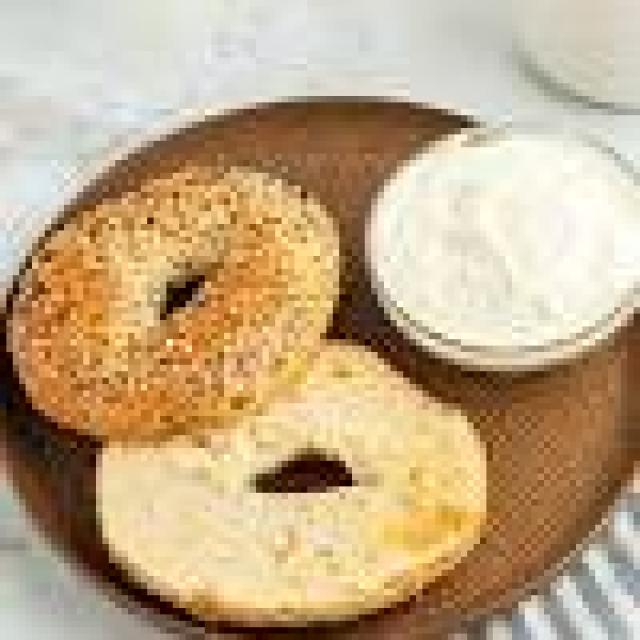Bagel: (98, 340, 485, 623), (10, 166, 339, 436)
